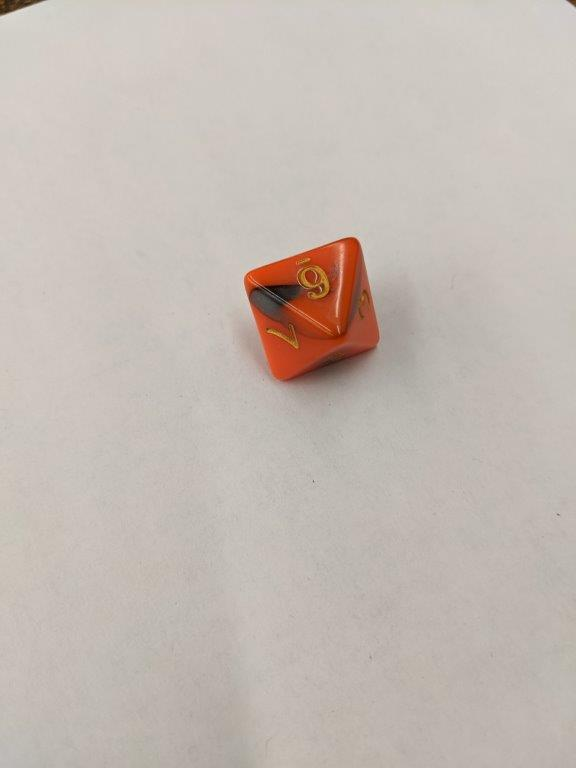d8-6: (243, 233, 383, 387)
